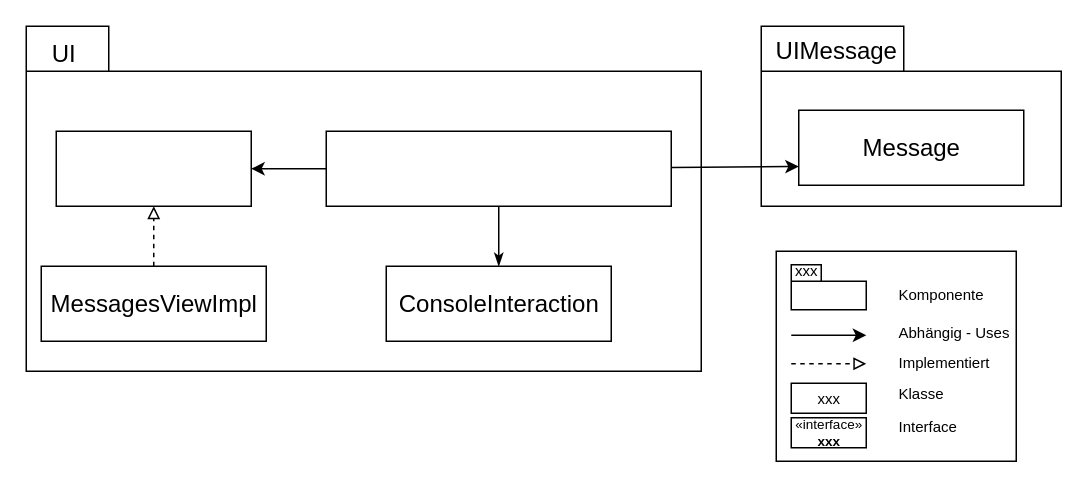
The diagram is 1088 pixels wide and 488 high, and some of its shapes have lost their labels. Each missing label, with the box of its shape:
ConsoleUIMessagesController: (325, 130, 671, 206)
«interface» MessagesView: (55, 130, 251, 206)
